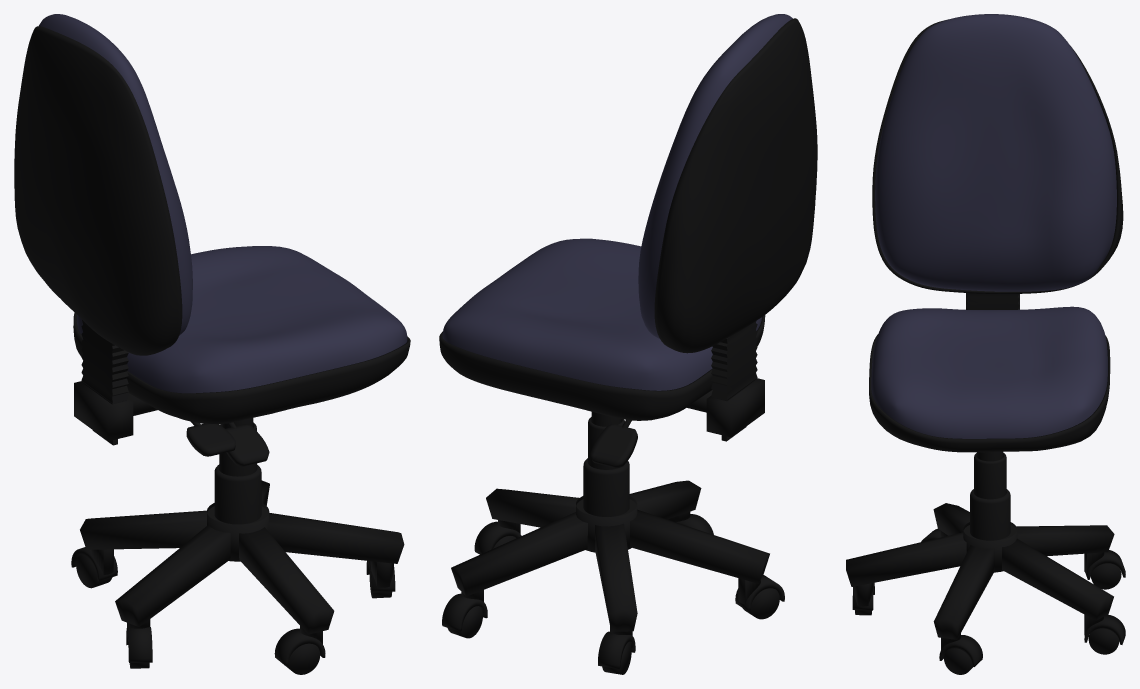
The model's file is OfficeChair.fbx.
The picture shows the model from 3 angles, left to right: view 1: azimuth 30°, elevation 25°; view 2: azimuth 150°, elevation 25°; view 3: azimuth 270°, elevation 25°; orthographic projection. The views are drawn at different scales.
Visible parts, largest first — view 1: Sphere.003, Sphere, ChairStar, Sphere.002, Sphere.001, Cube.012, ChairStand.001, Cube.009, Wheel3.001, Wheel1.001, Plate.002, Plate.001 (+3 smaller); view 2: Sphere.003, Sphere, ChairStar, Sphere.002, Sphere.001, Cube.012, ChairStand.001, Cube.009, Wheel5.001, Wheel2.001, Plate.003, Wheel1.001 (+2 smaller); view 3: Sphere.001, Sphere, ChairStar, Sphere.002, Sphere.003, ChairStand.001, Wheel5.001, Wheel4.001, ChairStand.002, Wheel1.001, Cube.012, ChairStand.004 (+1 smaller).
Boxes of the visible parts, x1,y1,x2,y2 form: Sphere.003: (14,26,182,355); Sphere: (76,246,407,393); ChairStar: (80,480,404,634); Sphere.002: (73,312,410,424); Sphere.001: (39,14,192,335); Cube.012: (81,320,128,404); ChairStand.001: (214,464,261,524); Cube.009: (74,381,133,441); Wheel3.001: (274,626,325,674); Wheel1.001: (71,547,117,588); Plate.002: (225,424,269,466); Plate.001: (186,423,235,456); Sphere.003: (654,18,817,353); Sphere: (442,238,761,390); ChairStar: (451,480,769,631); Sphere.002: (439,315,765,420); Sphere.001: (638,14,792,338); Cube.012: (711,321,757,401); ChairStand.001: (583,458,629,516); Cube.009: (706,378,764,437); Wheel5.001: (442,590,487,638); Wheel2.001: (735,575,784,619); Plate.003: (590,424,637,467); Wheel1.001: (598,627,635,674); Sphere.001: (875,14,1116,291); Sphere: (871,306,1107,438); ChairStar: (846,503,1114,639); Sphere.002: (869,334,1110,452); Sphere.003: (872,19,1123,293); ChairStand.001: (970,489,1010,540); Wheel5.001: (1084,614,1125,654); Wheel4.001: (939,633,982,674); ChairStand.002: (974,453,1006,499); Wheel1.001: (1084,550,1125,589); Cube.012: (966,293,1019,309); ChairStand.004: (963,522,1017,572).
Bounding box in the file's own units: 274 × 510 × 239.
